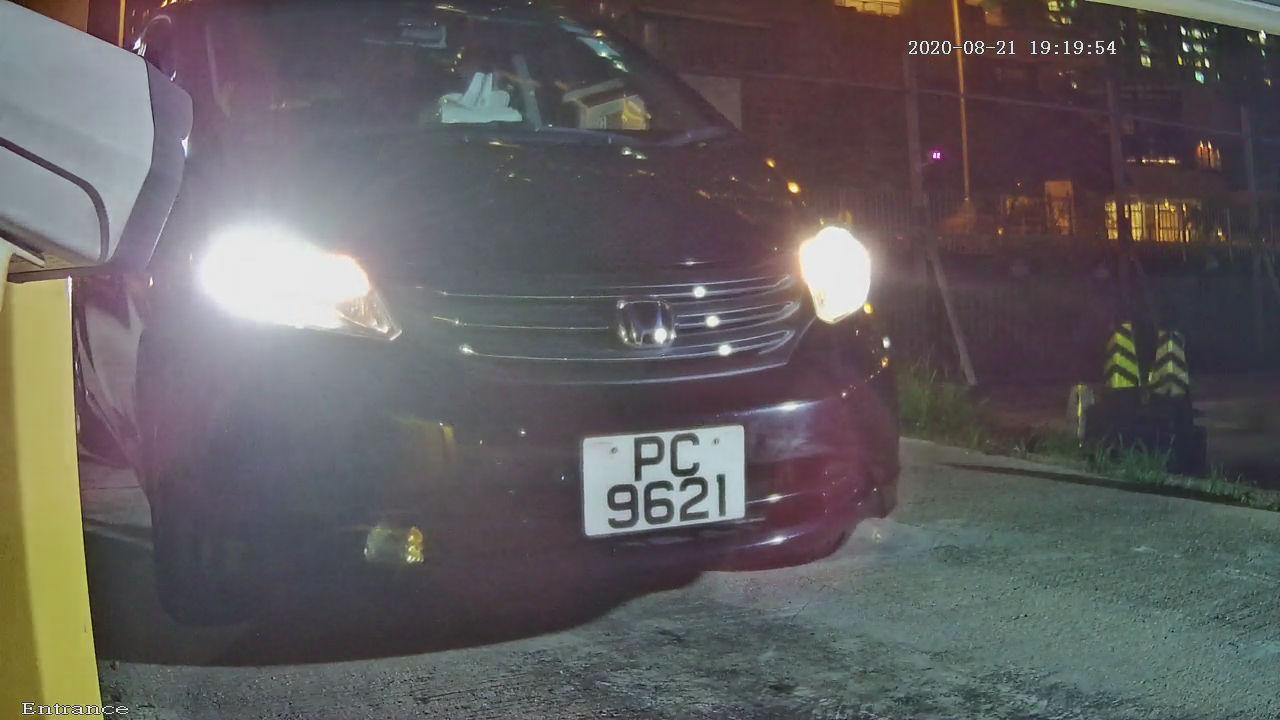Car: (1, 4, 989, 666)
License Plate: (561, 415, 761, 544)
